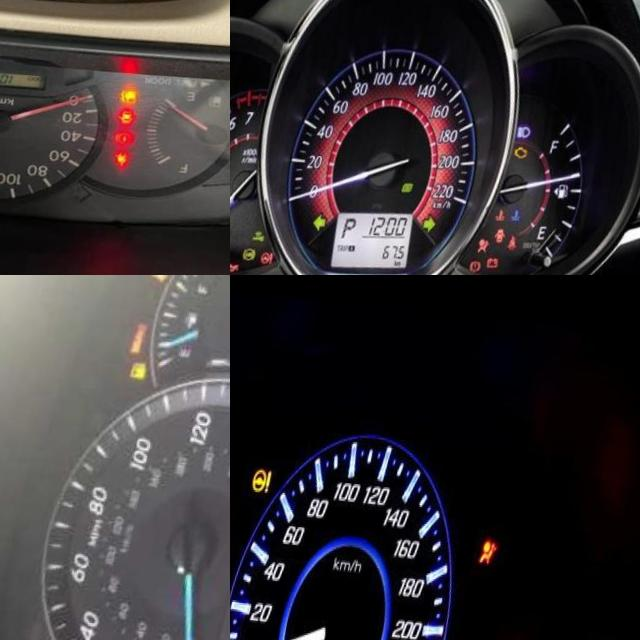Electronic Power Steering: (280, 247, 294, 260)
High Engine Coolant Temperature: (512, 198, 524, 212)
Seat Belt: (130, 142, 145, 158), (525, 225, 537, 241)
